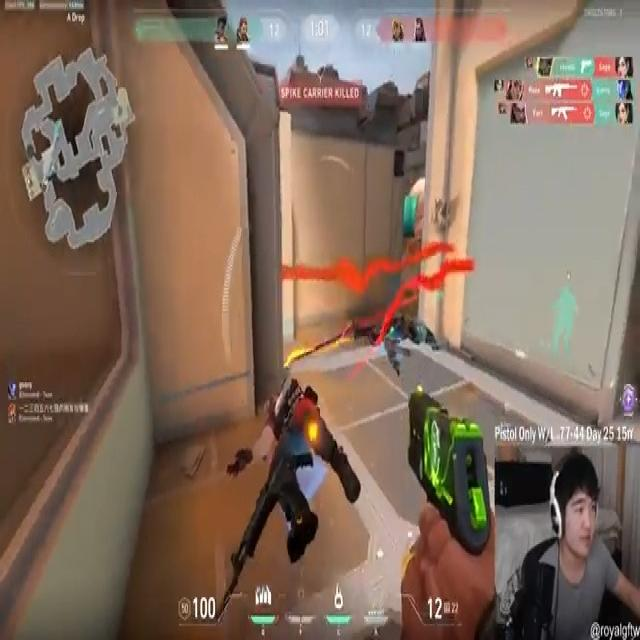ally behind wall: (552, 280, 576, 370)
smoke: (409, 180, 428, 242)
